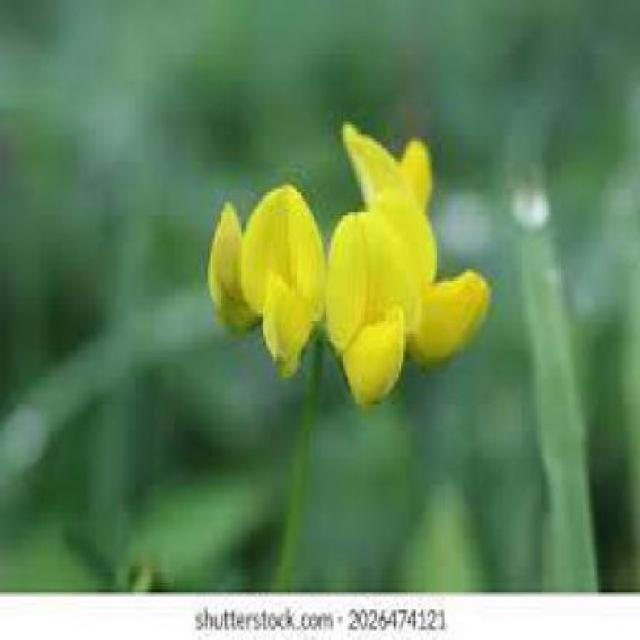flower: (207, 122, 491, 396)
